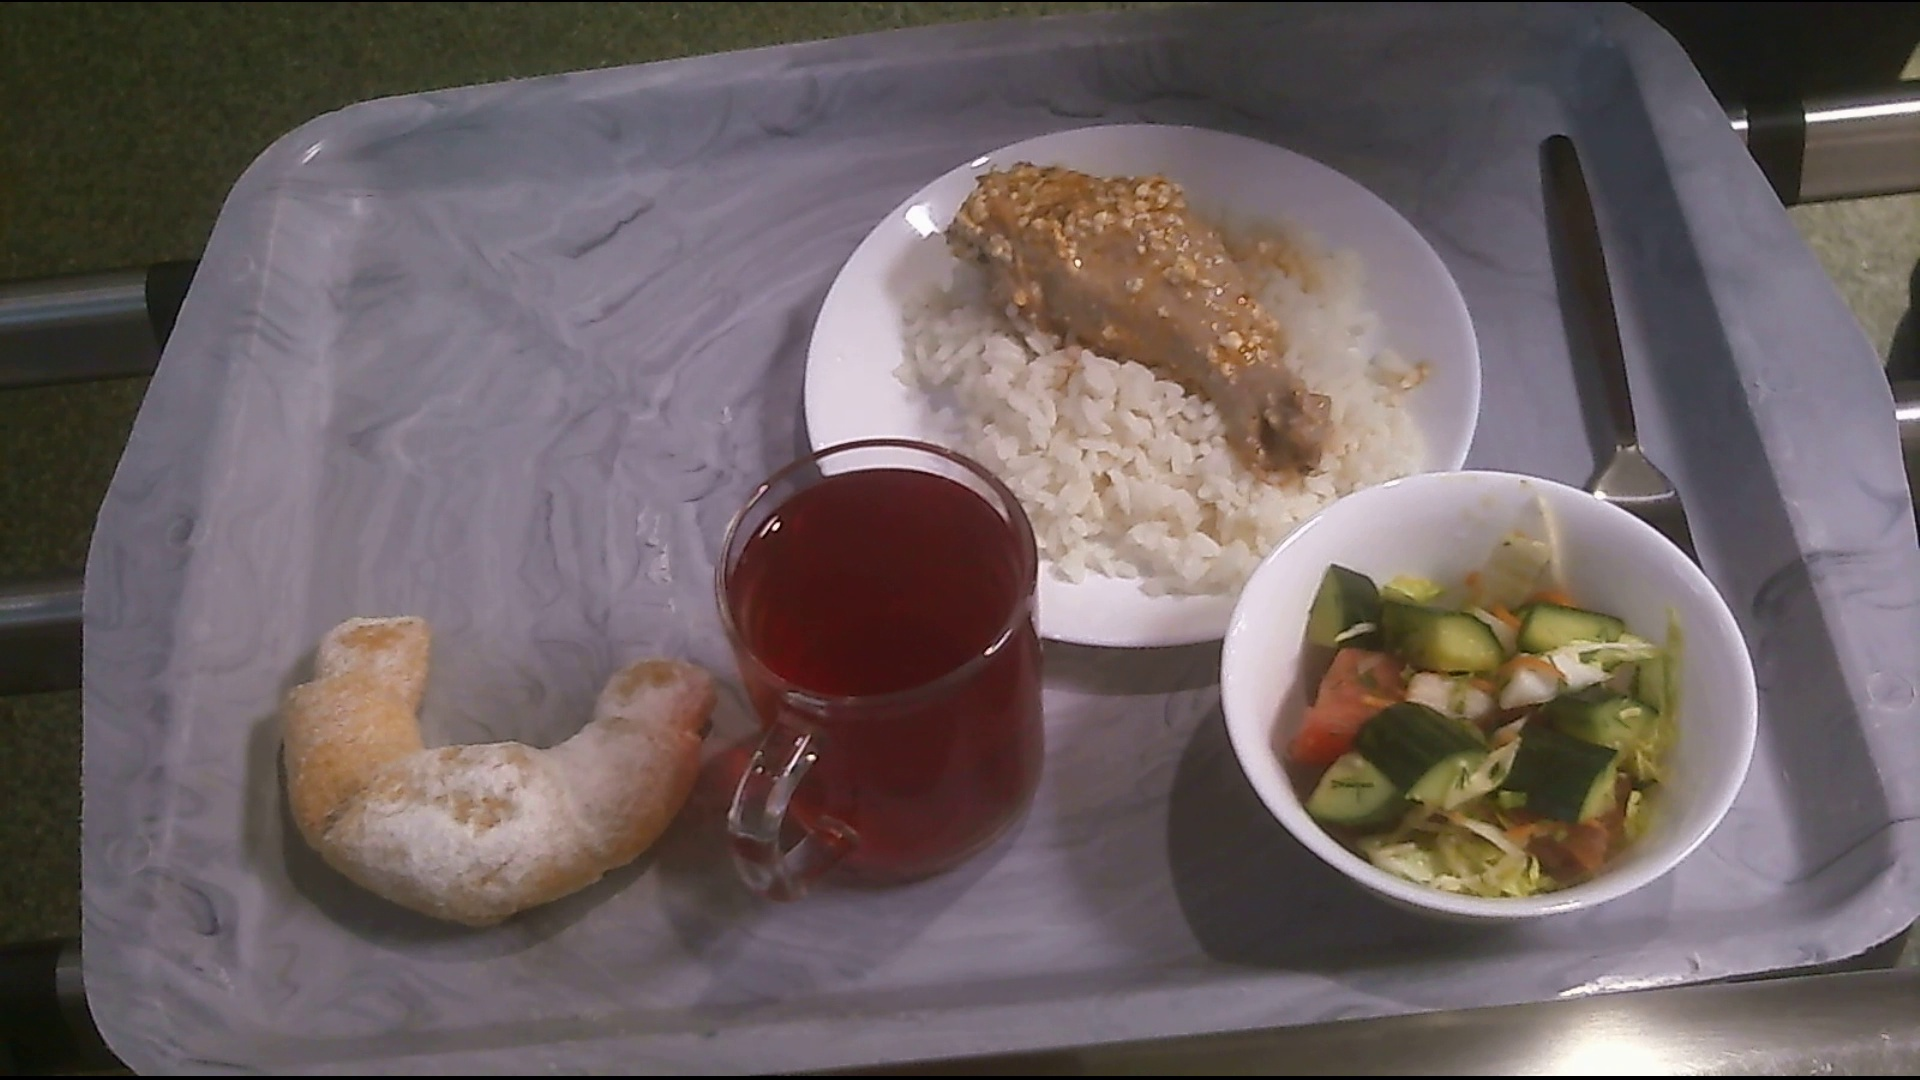bowl: (1232, 462, 1758, 916)
cutlery: (1538, 135, 1717, 584)
drink: (703, 436, 1069, 902)
other: (277, 605, 723, 944)
plate: (795, 131, 1484, 655)
